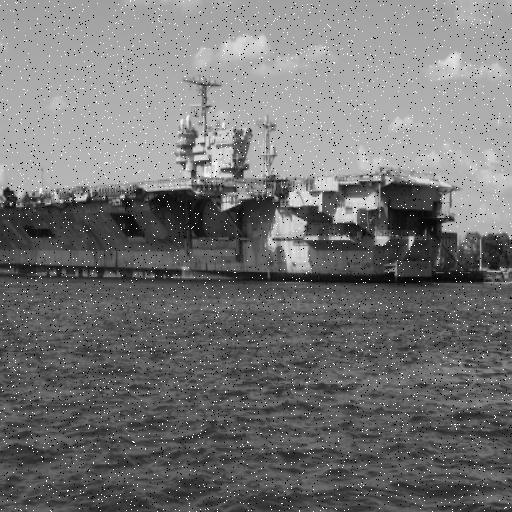Portanaves: (1, 53, 465, 285)
